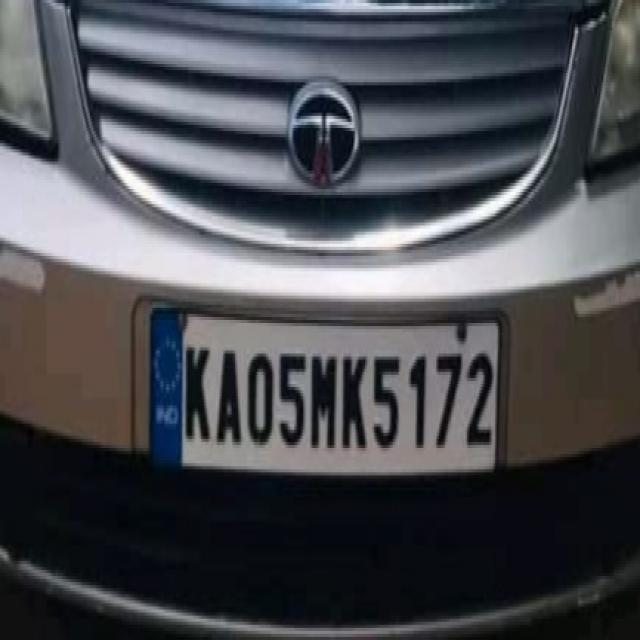0: (244, 348, 275, 447)
1: (408, 342, 433, 456)
5: (367, 345, 402, 455), (275, 340, 308, 454)
7: (433, 337, 465, 463)
A: (217, 331, 247, 456)
K: (181, 334, 215, 456), (342, 343, 372, 460)
M: (309, 342, 338, 462)
